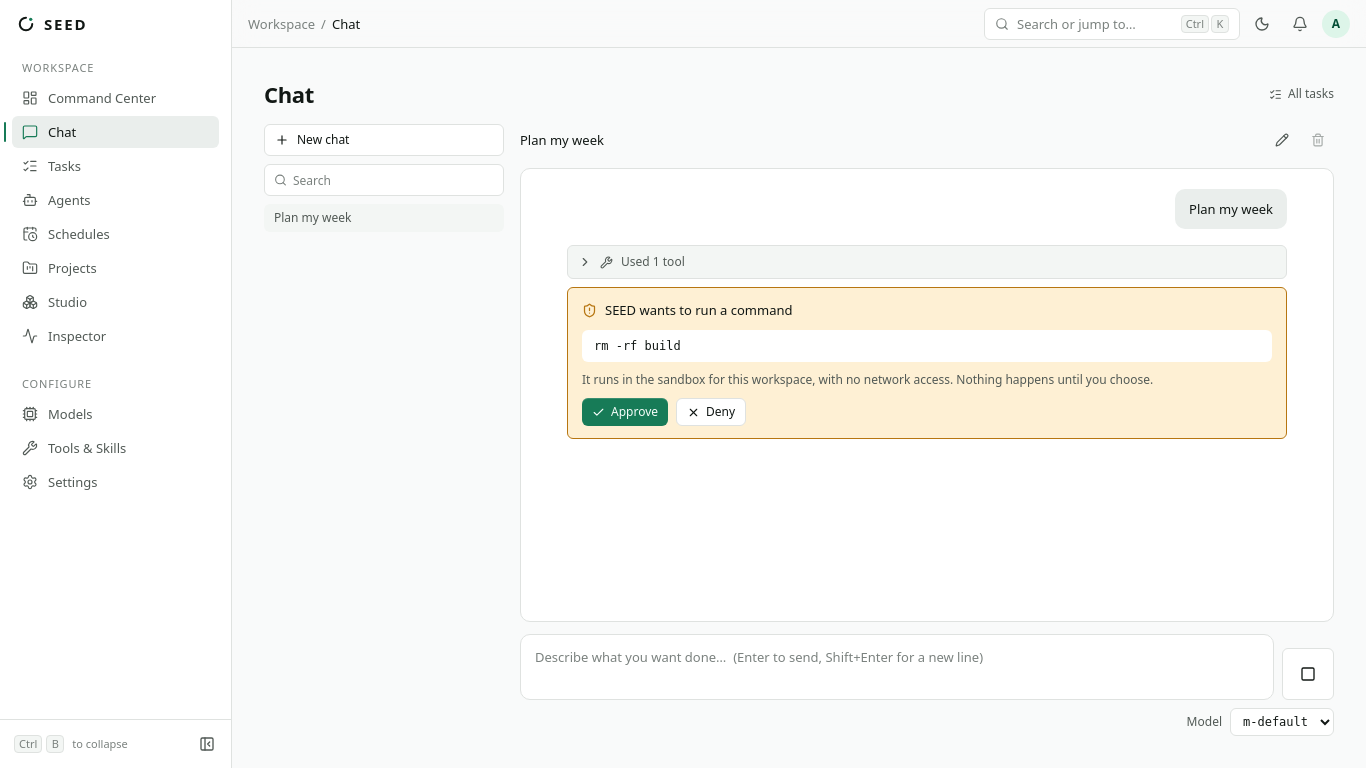
Test: Chat › asks before running a command and sends the decision
Expected: the text "rm -rf build" is shown, [582,330,1272,362]
Click the button "Approve" at (625, 412), box [582,398,668,426]
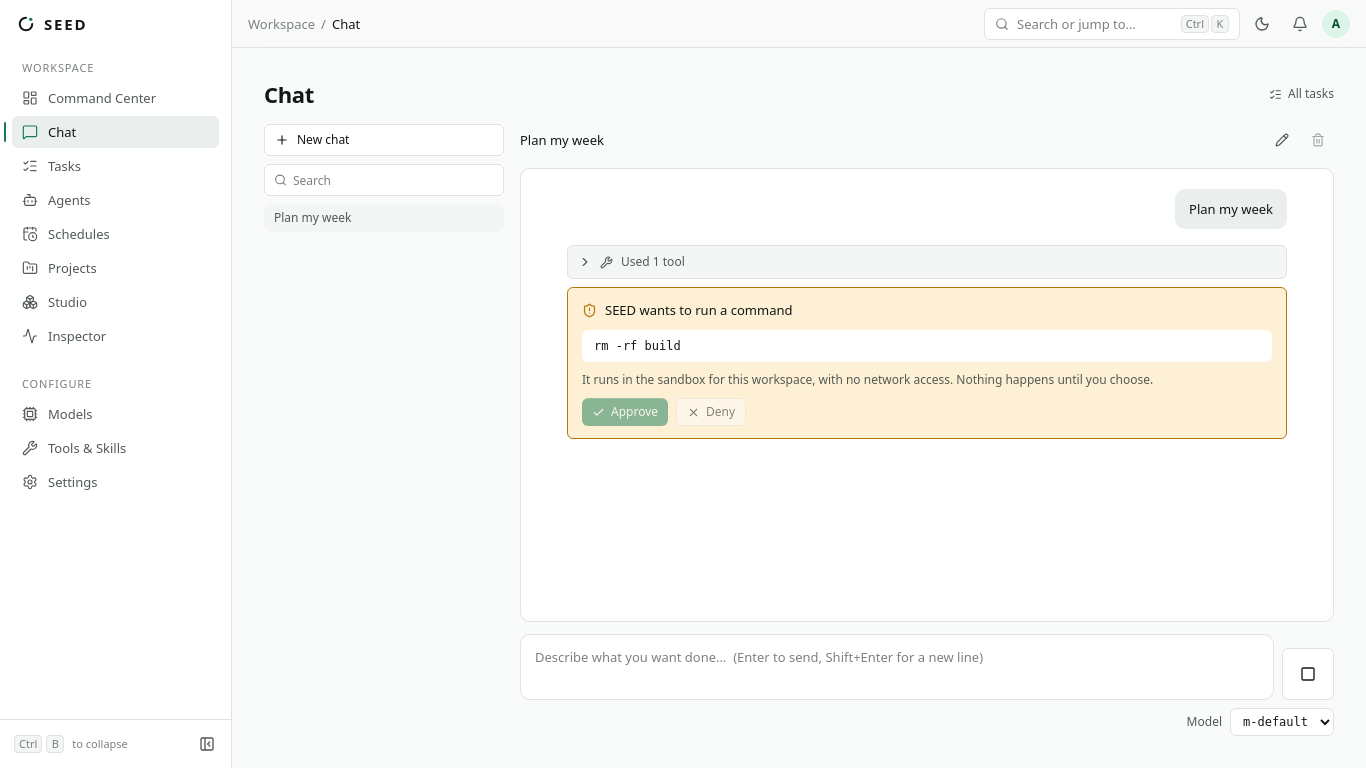
Expected: the button "Approve" is disabled, [582,398,668,426]
Expected: the button "Deny" is disabled, [676,398,746,426]
